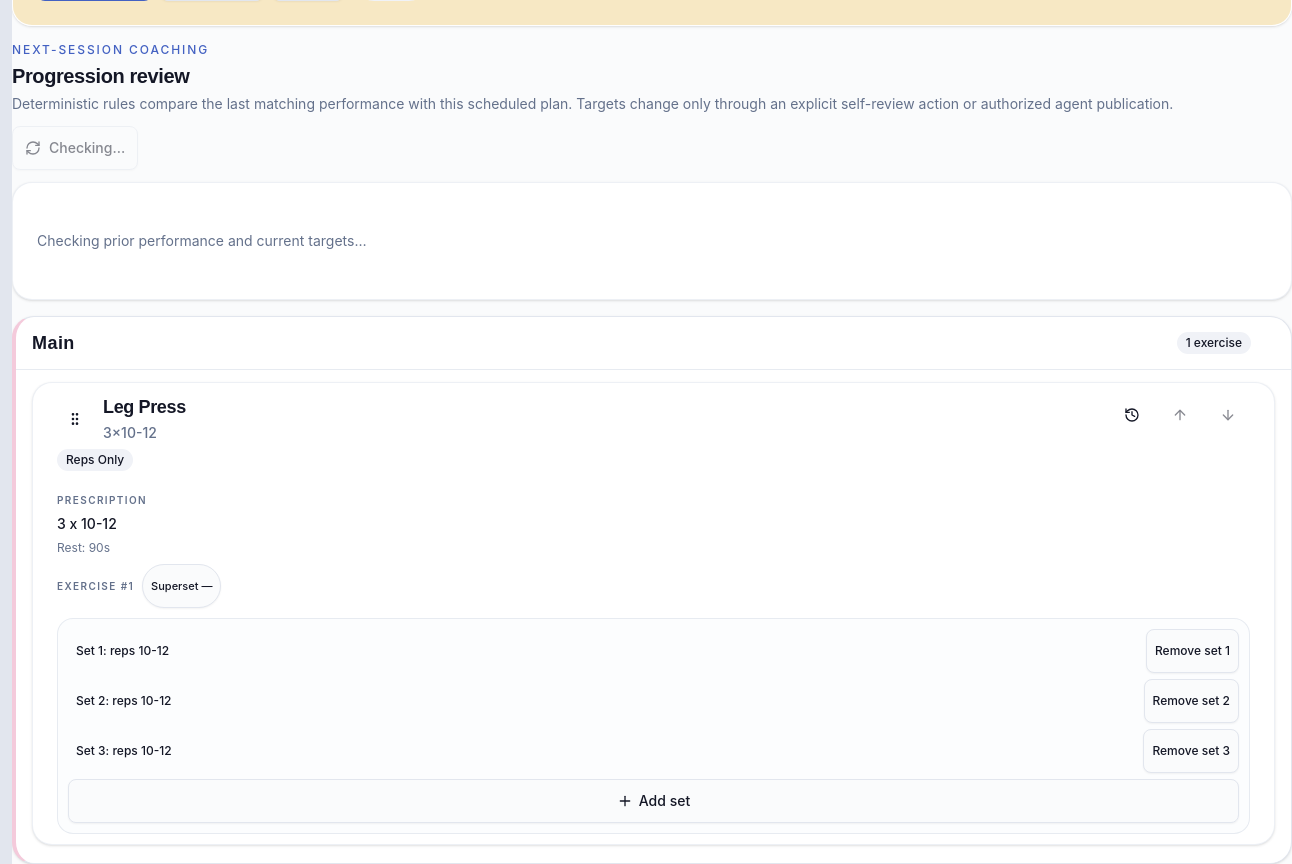
Test: ScheduledWorkoutDetail › removes a set and shows the updated set count after success
(page scrolled)
Click the button "Remove set 2". click: (1191, 701)
box: top-left (1144, 679), bottom-right (1239, 723)
(page scrolled)
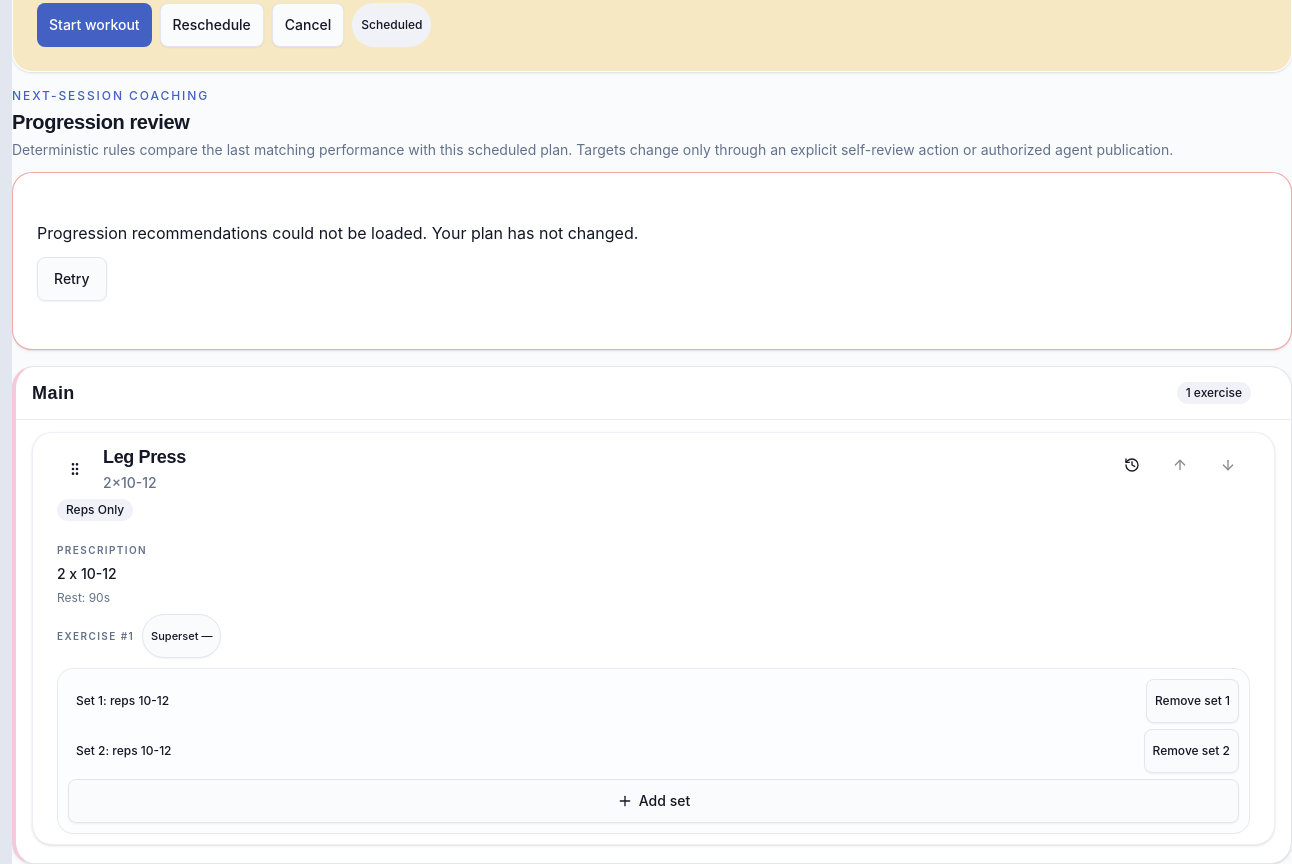
Now the button "Set 3:" is gone
Now the number of buttons "Set 1: reps 10-12" is 2, box top-left (68, 683), bottom-right (1138, 719); top-left (68, 733), bottom-right (1136, 769)
